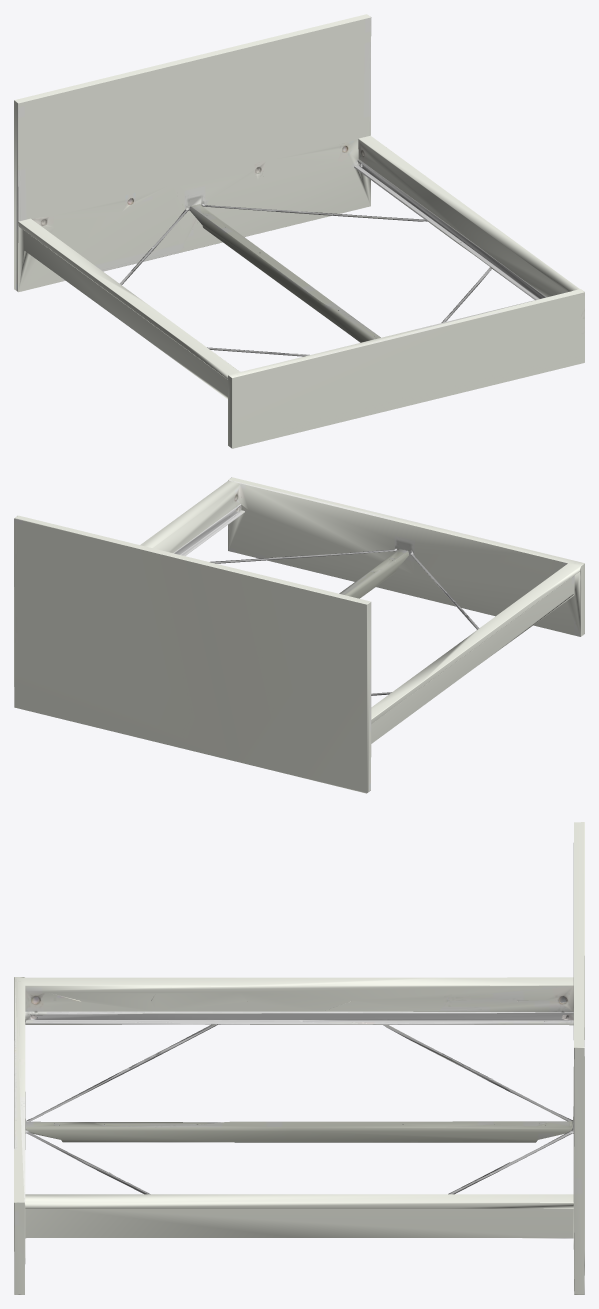
File: MALM_09929373.glb
3 views of the same model, one above another, from view 1: azimuth 30°, elevation 25°; view 2: azimuth 150°, elevation 25°; view 3: azimuth 270°, elevation 25° (orthographic). The views are drawn at different scales.
Visible parts, largest first — view 1: ProcessedMeshNode; view 2: ProcessedMeshNode; view 3: ProcessedMeshNode.
Boxes of the visible parts, x1,y1,x2,y2 form: ProcessedMeshNode: (14,14,584,448); ProcessedMeshNode: (14,477,584,793); ProcessedMeshNode: (14,822,584,1294).
Bounding box in the file's own units: 1.96 × 1.01 × 2.09.
1 material, 1 textured.
